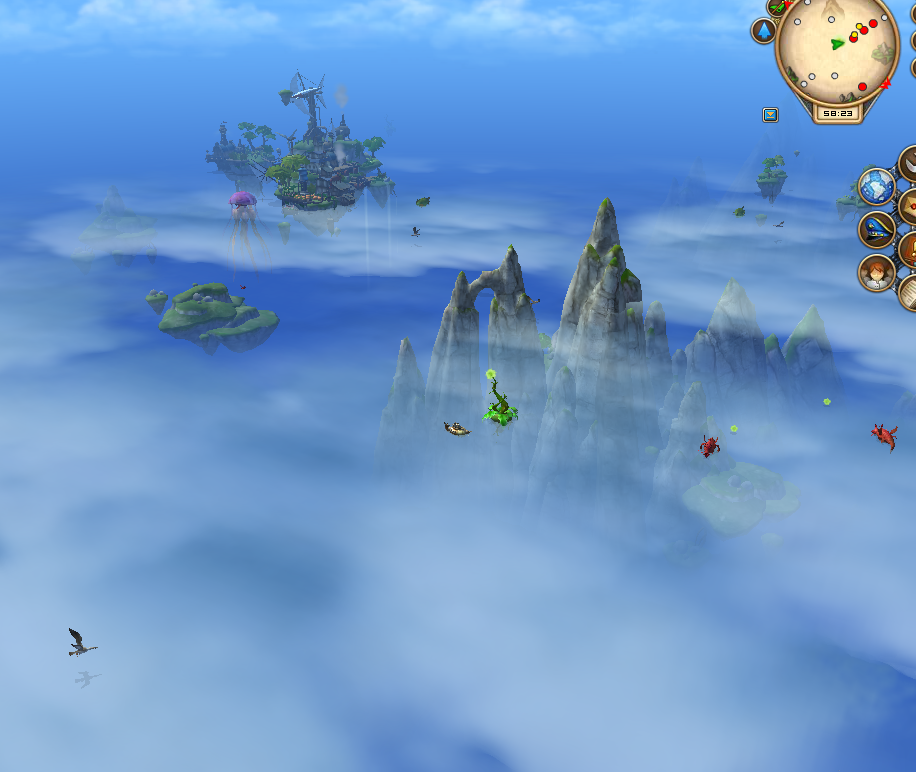dandelion-full: (479, 364, 521, 434)
fluff: (819, 393, 834, 409), (727, 420, 741, 437)
